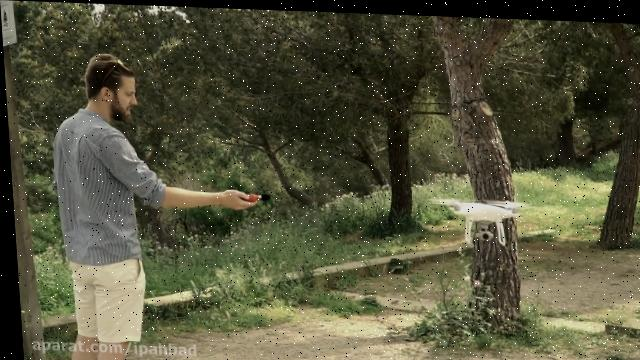drone: (423, 193, 538, 240)
